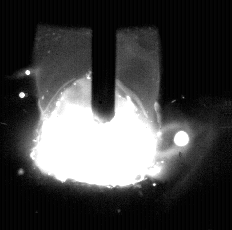arame: (93, 0, 117, 124)
poca: (33, 0, 157, 230)
